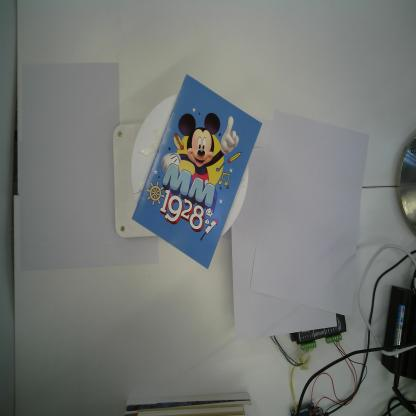Stationery: (132, 74, 262, 271)
